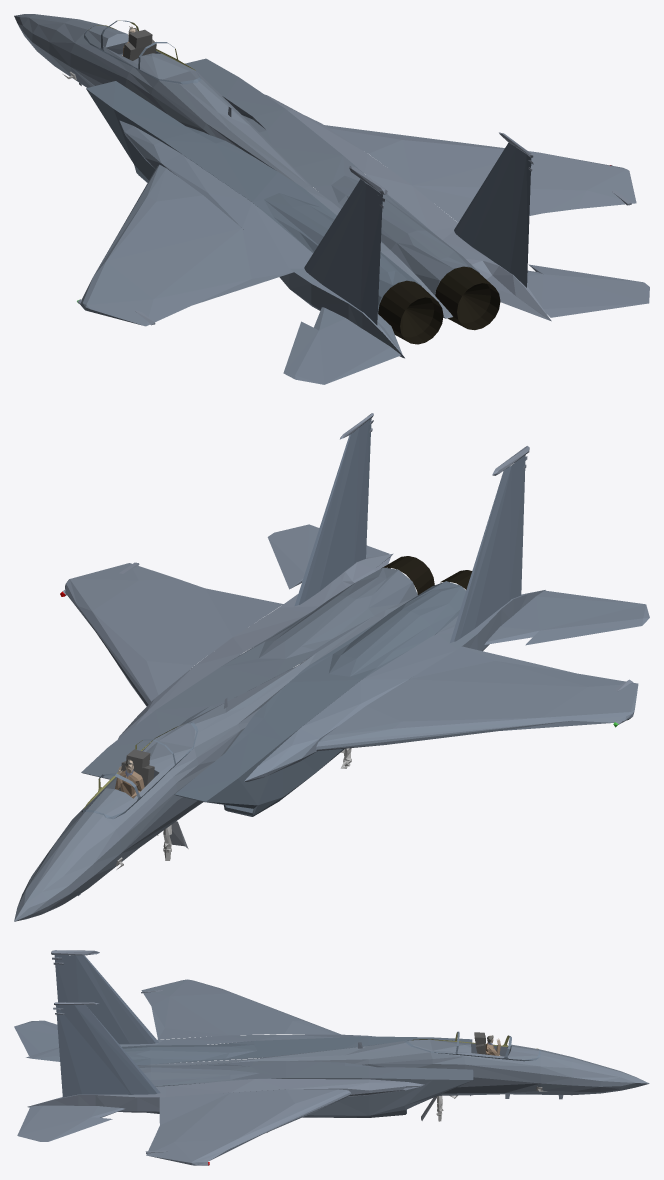
3 renders of one model, top to bottom at view 1: azimuth 30°, elevation 25°; view 2: azimuth 150°, elevation 25°; view 3: azimuth 270°, elevation 25°, orthographic. The views are drawn at different scales.
Visible parts, largest first — view 1: body; view 2: body; view 3: body.
Boxes of the visible parts, bbox=[...] form: body: bbox=[14, 14, 649, 384]; body: bbox=[14, 413, 649, 921]; body: bbox=[14, 950, 649, 1165].
Bounding box in the file's own units: 13.22 × 4.96 × 19.4.
